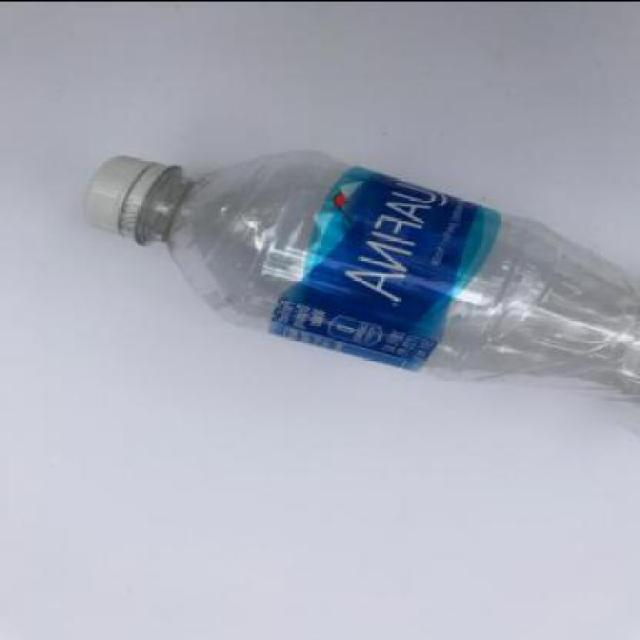PLASTIC: (80, 154, 638, 440), (268, 163, 510, 372), (80, 155, 185, 247)
